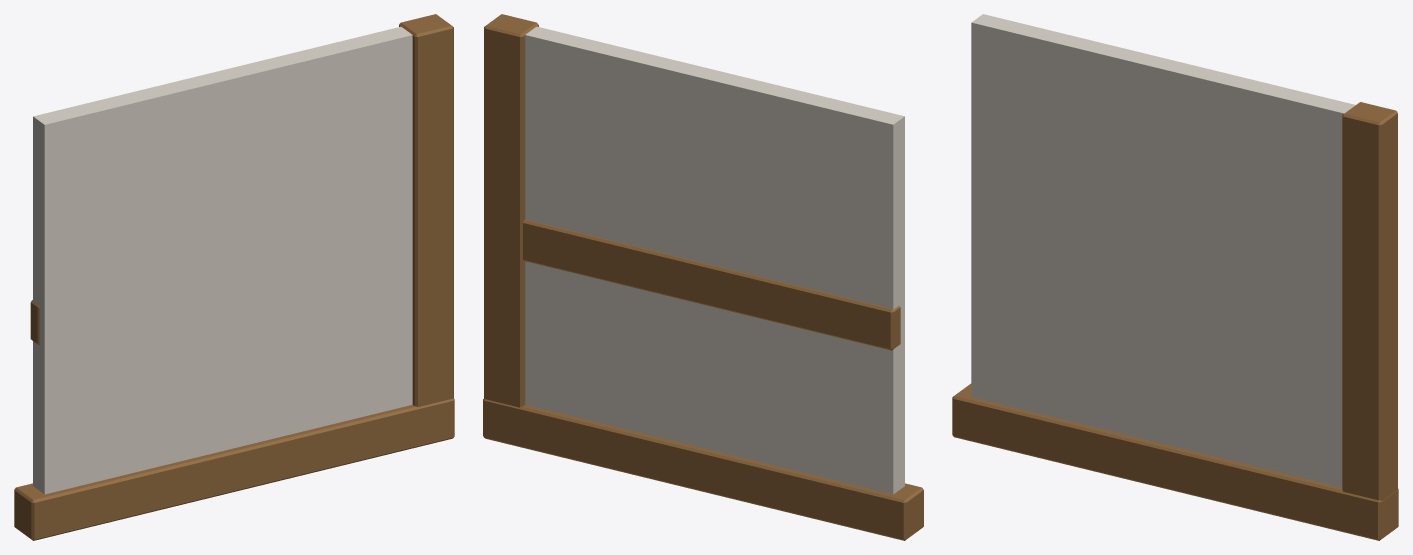
The model's file is WallH.fbx.
3 views of the same model, side by side, from view 1: azimuth 30°, elevation 25°; view 2: azimuth 150°, elevation 25°; view 3: azimuth 330°, elevation 25° (orthographic).
Parts seen in each view (by area): view 1: Cube.107, Cube.119, Cube.115; view 2: Cube.107, Cube.119, Cube.115, Cube.117; view 3: Cube.107, Cube.115, Cube.119.
Boxes of the visible parts, x1=… form: Cube.107: x1=33, y1=26, x2=412, y2=494; Cube.119: x1=14, y1=398, x2=454, y2=540; Cube.115: x1=399, y1=14, x2=453, y2=406; Cube.107: x1=525, y1=26, x2=904, y2=494; Cube.119: x1=483, y1=398, x2=923, y2=540; Cube.115: x1=484, y1=14, x2=538, y2=407; Cube.117: x1=523, y1=219, x2=900, y2=350; Cube.107: x1=971, y1=14, x2=1355, y2=487; Cube.115: x1=1342, y1=102, x2=1397, y2=500; Cube.119: x1=952, y1=383, x2=1398, y2=540.
Bounding box in the file's own units: 216 × 201 × 17.27.
